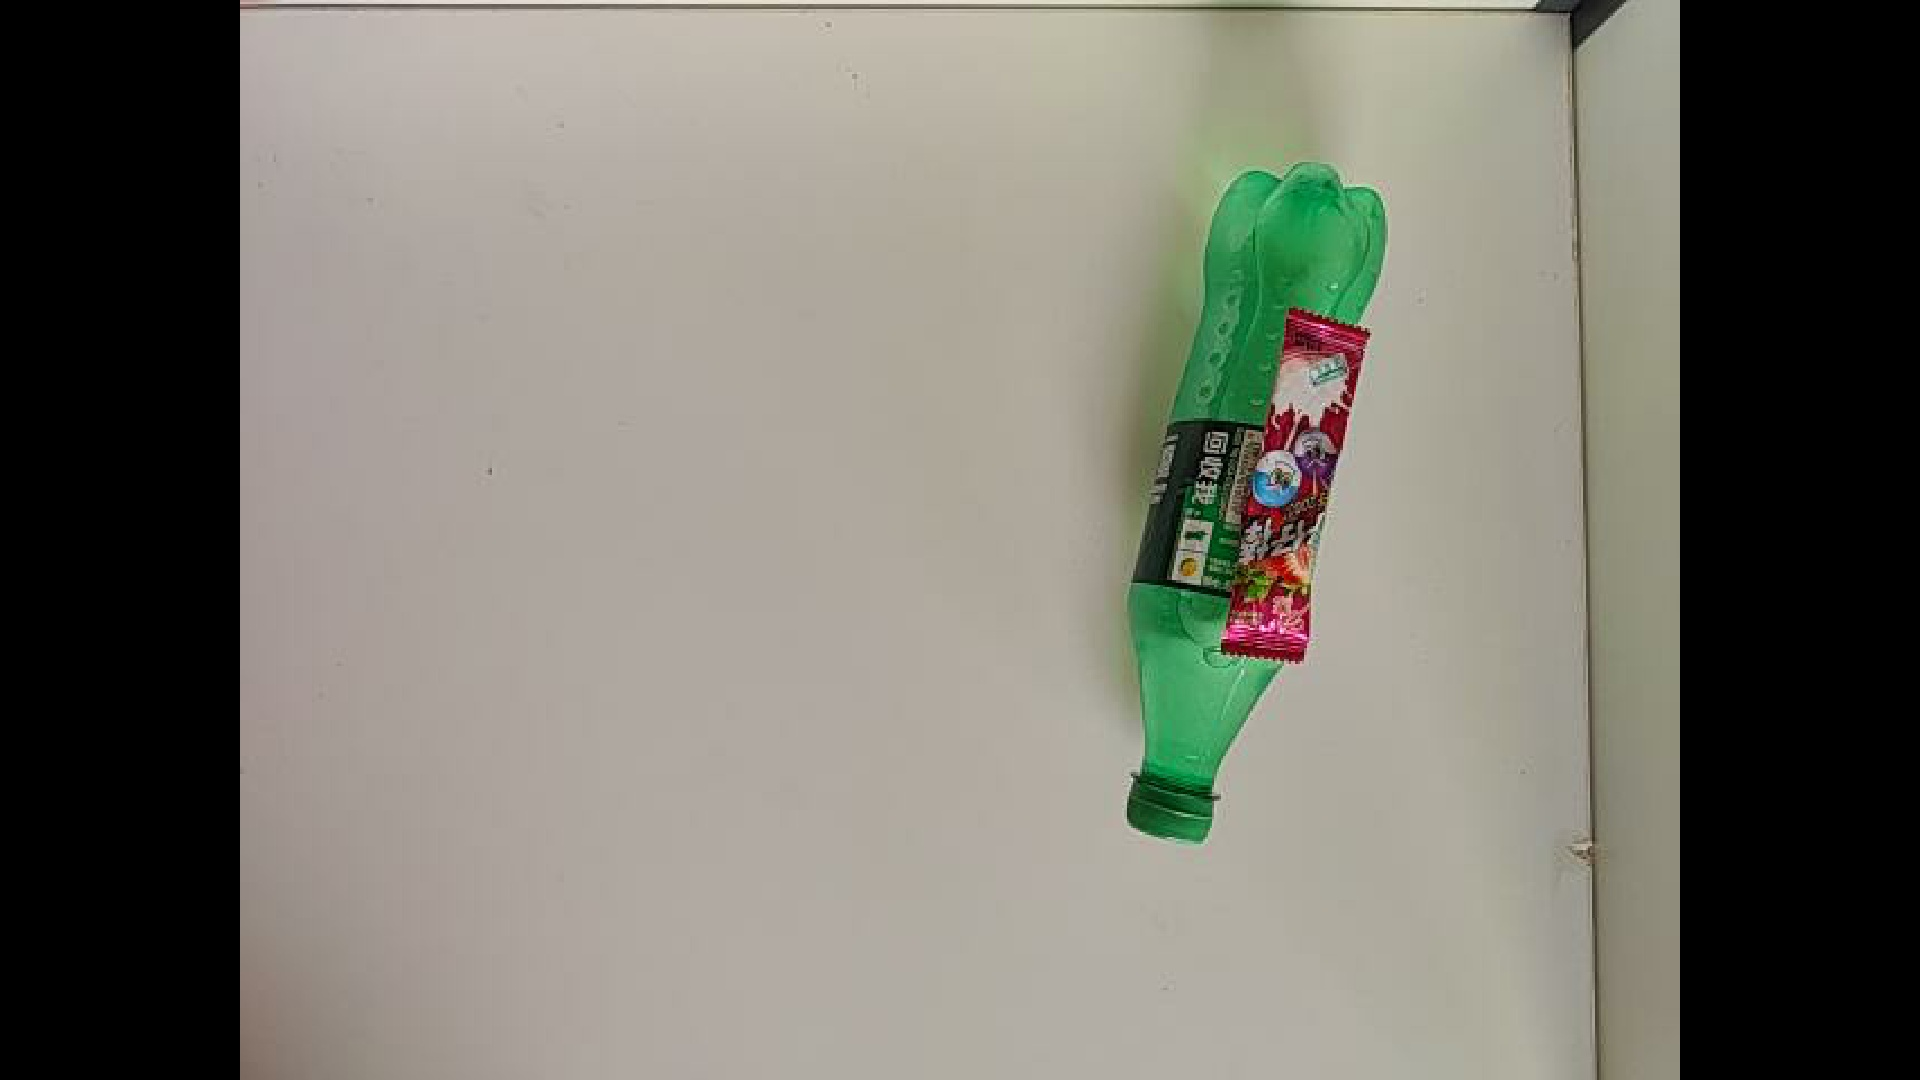sprite: (934, 136, 1406, 841)
sugar: (1146, 303, 1382, 666)
